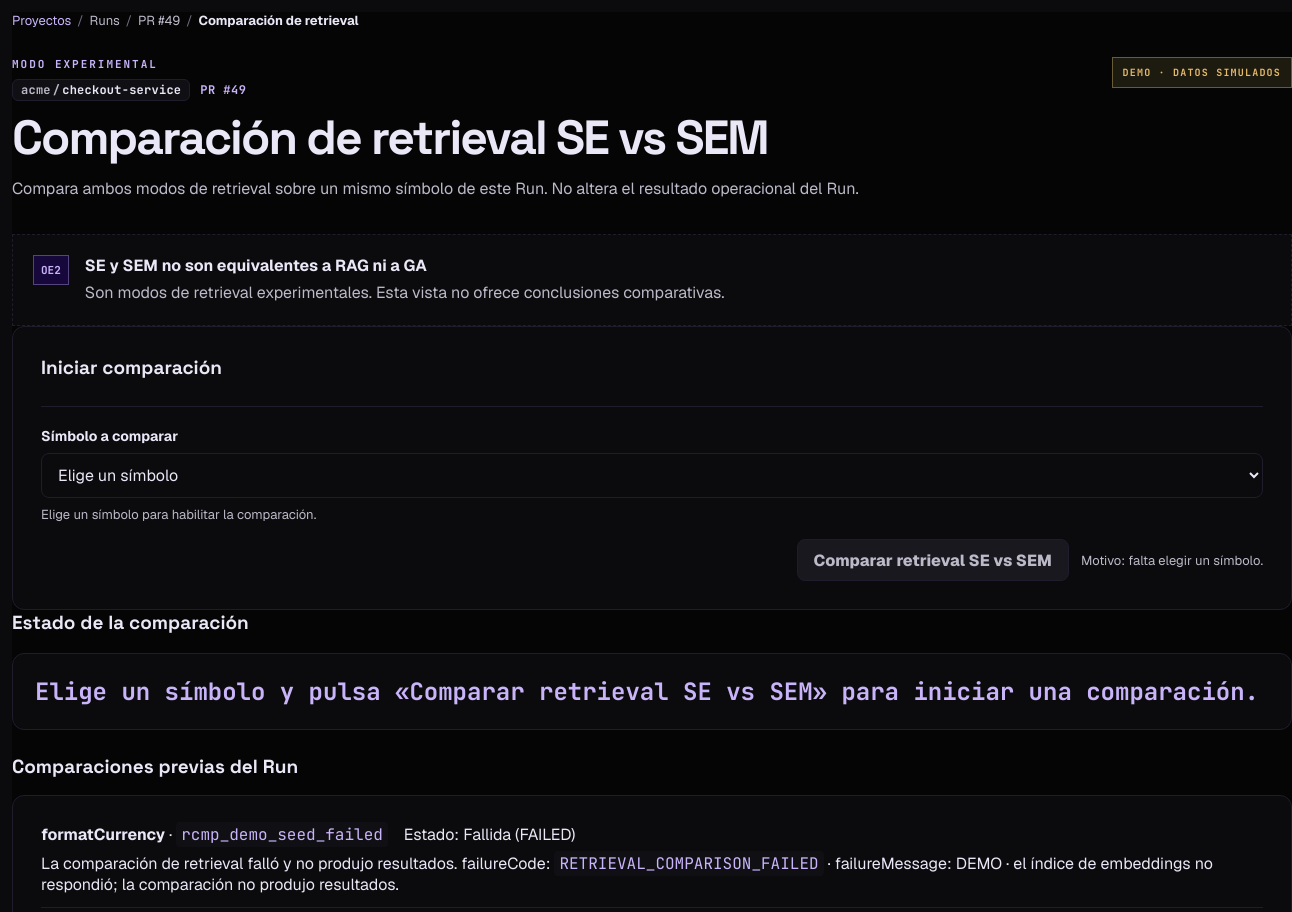
Test: RetrievalComparisonPage (WI-CONSOLE-014, Corte B) › con varios símbolos el botón queda deshabilitado con motivo hasta elegir uno
Expected: the button "Comparar retrieval SE vs SEM" is disabled, [796,539,1069,581]
Select "formatCurrency · FUNCTION · src/shared/money.ts" in the dropdown labelled "Símbolo a comparar". click: (652, 476)
box: [41,453,1263,498]
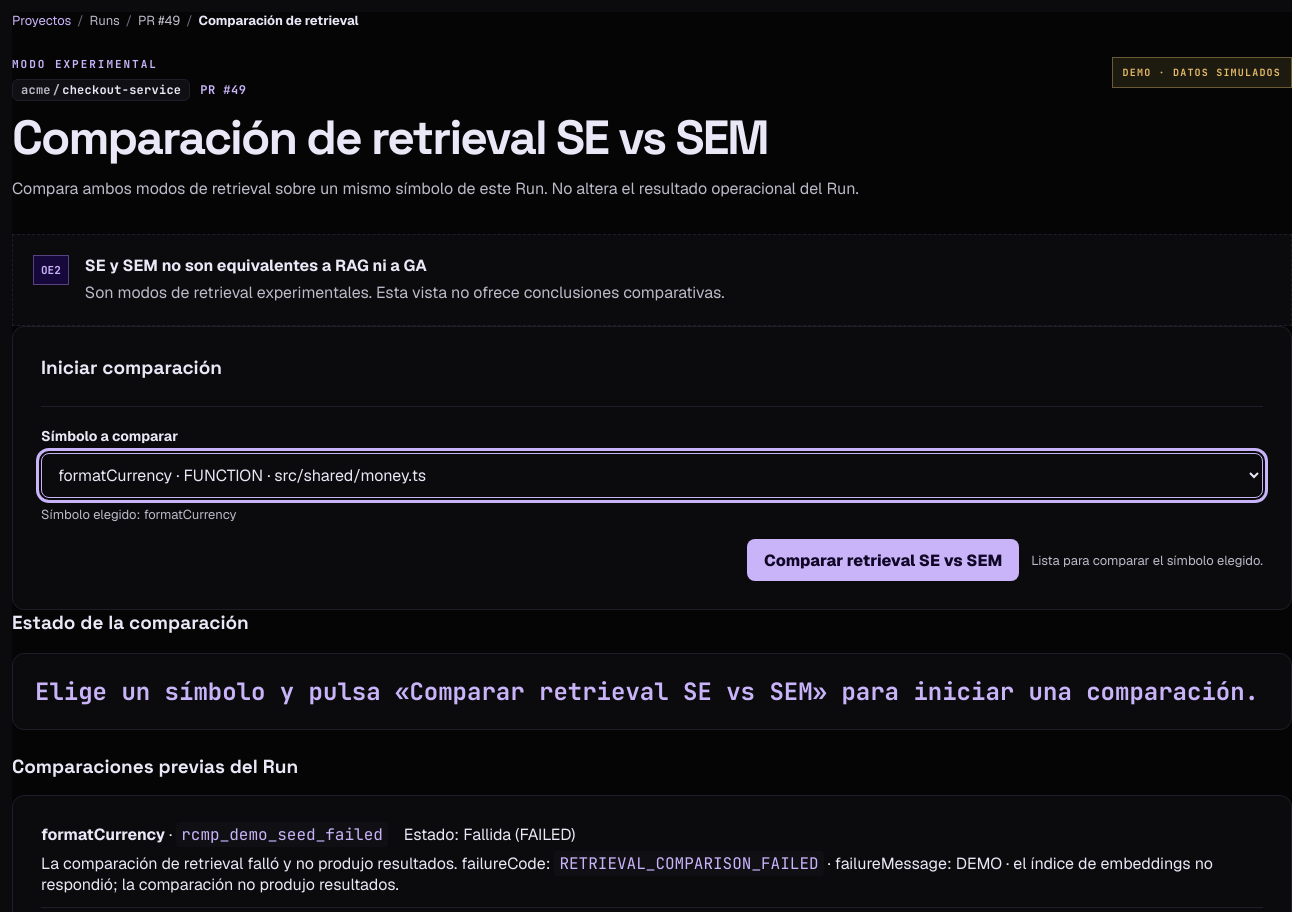
Expected: the button "Comparar retrieval SE vs SEM" is enabled, [747,539,1019,581]
Expected: the text "Símbolo elegido: formatCurrency" is shown, [41,506,236,523]
